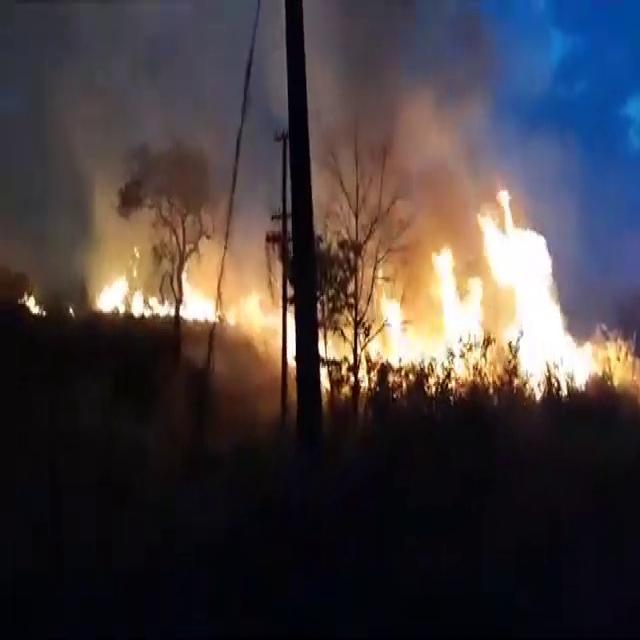Fire: (478, 185, 597, 386), (390, 256, 483, 380), (182, 274, 296, 368), (98, 272, 173, 318), (22, 295, 43, 318)
Smoke: (8, 16, 280, 274), (309, 12, 521, 258), (382, 66, 497, 192)
